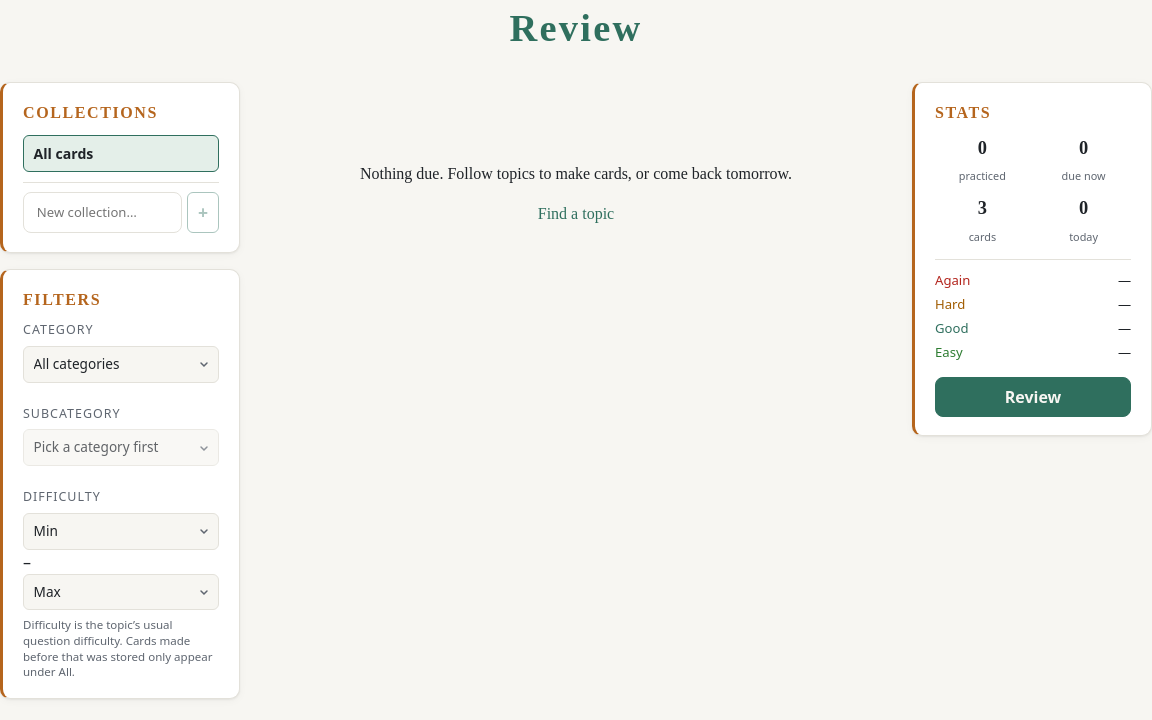
Test: review cards sit in groups and select all can take one group or every card
The width and height of the screenshot is (1152, 720).
Click the button "Review": {"x": 1033, "y": 397} left=935, top=376, right=1131, bottom=417
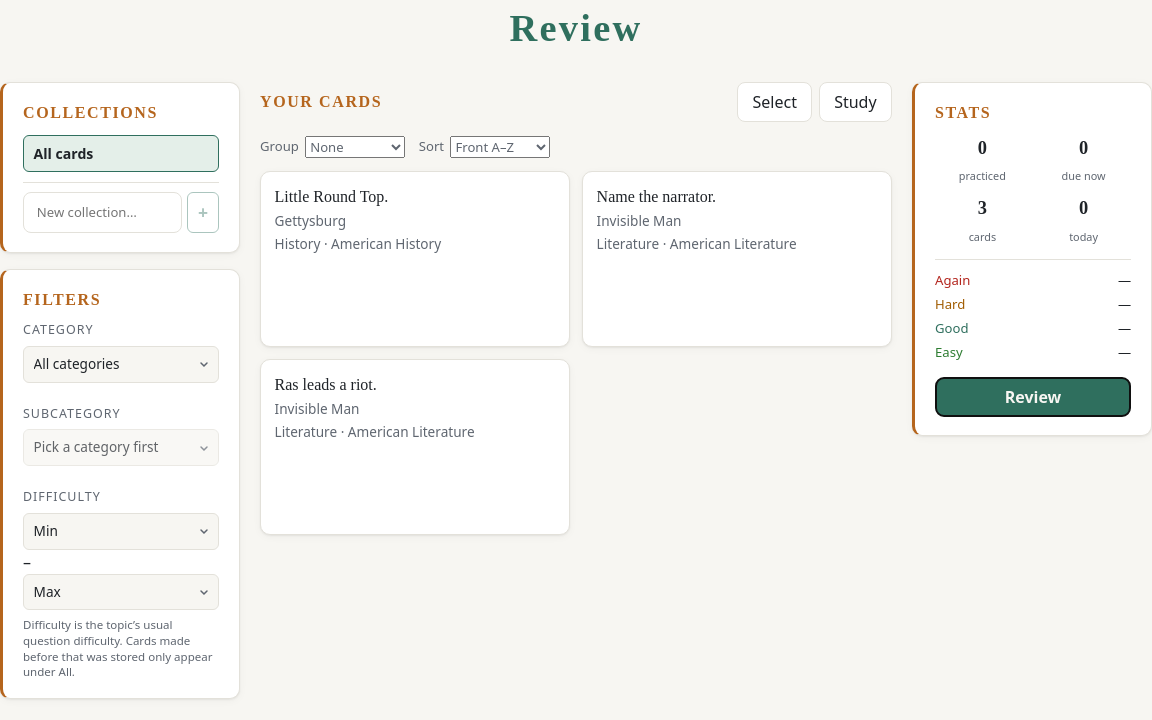
Check: the text "Little Round Top." is shown, box left=275, top=188, right=388, bottom=205
Select "Subcategory" in the dropdown named "Group cards": {"x": 355, "y": 147} left=305, top=136, right=405, bottom=158
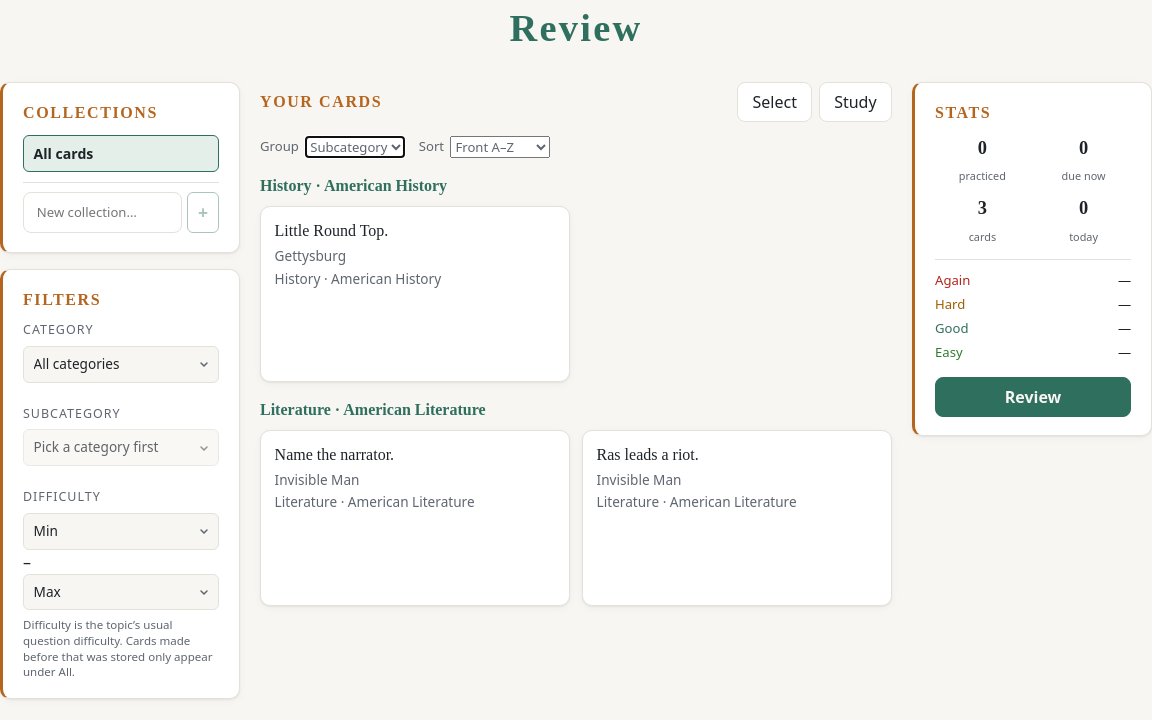
Check: the heading "History · American History" is shown, box left=260, top=174, right=447, bottom=198
Check: the heading "Literature · American Literature" is shown, box left=260, top=398, right=486, bottom=422
Click the button "Select": {"x": 775, "y": 102} left=737, top=82, right=812, bottom=122
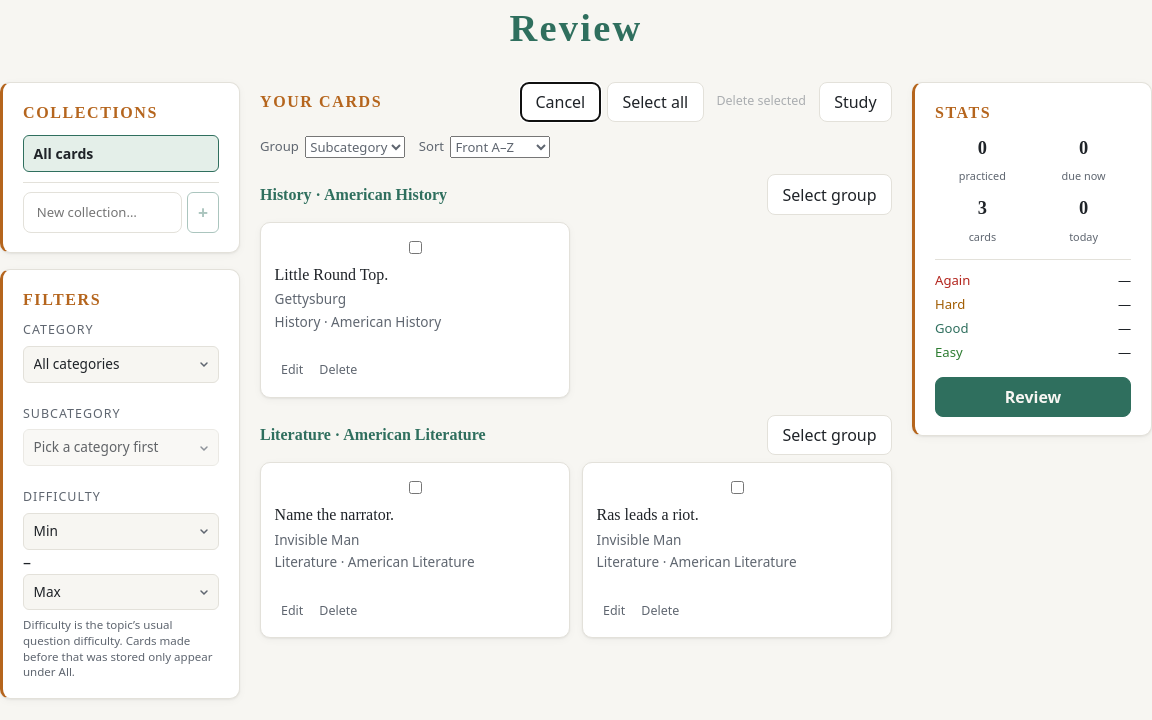
Click the button with aria-label "Select group History · American History": {"x": 830, "y": 195} left=767, top=174, right=892, bottom=215
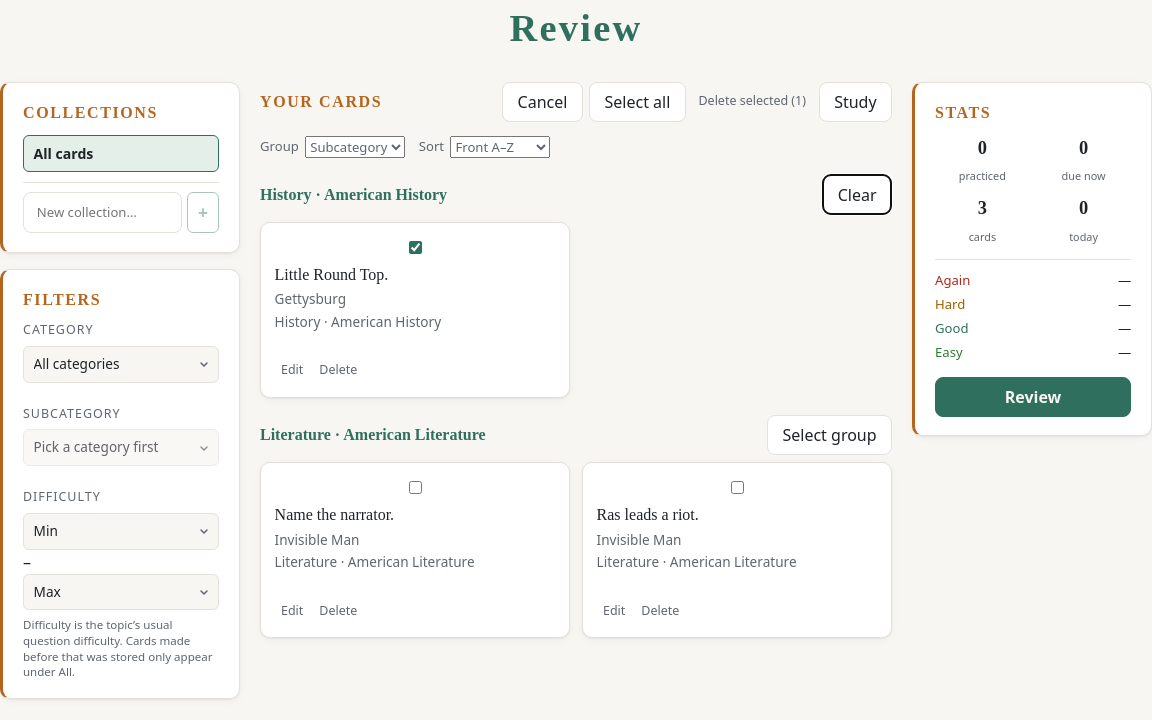
Check: the checkbox named "Select Ras leads a riot." is not checked, box left=601, top=481, right=874, bottom=494
Check: the checkbox named "Select Little Round Top." is checked, box left=279, top=240, right=552, bottom=254
Click the button with aria-label "Select all cards": {"x": 637, "y": 102} left=589, top=82, right=686, bottom=122
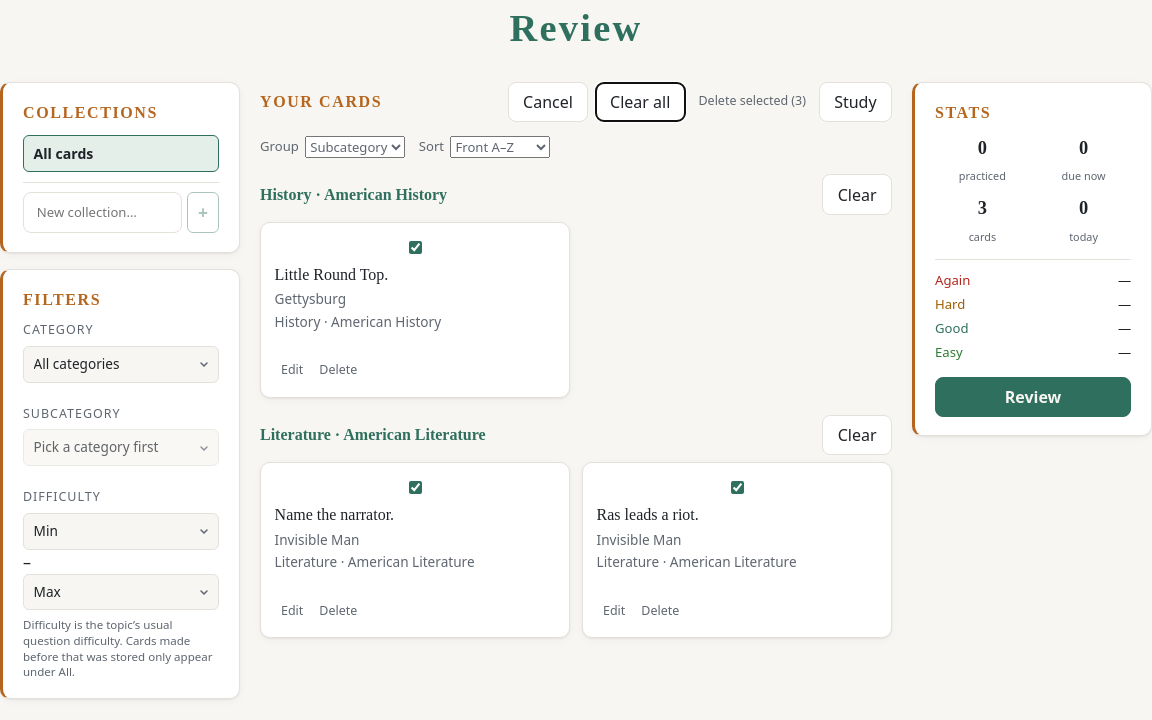
Check: the checkbox named "Select Name the narrator." is checked, box left=279, top=481, right=552, bottom=494
Check: the button with aria-label "Select all cards" reads "Clear all", box left=595, top=82, right=686, bottom=122
